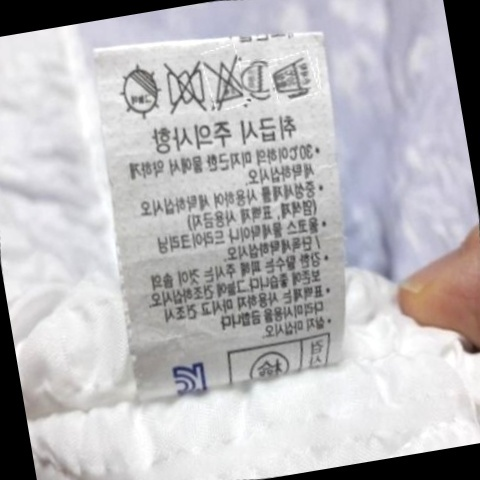DN_wring: (154, 55, 212, 117)
dry_clean: (237, 57, 277, 99)
hand_wash: (264, 47, 320, 102)
non_chlorine_bleach: (201, 50, 250, 110)
shade_dry: (109, 58, 170, 127)
